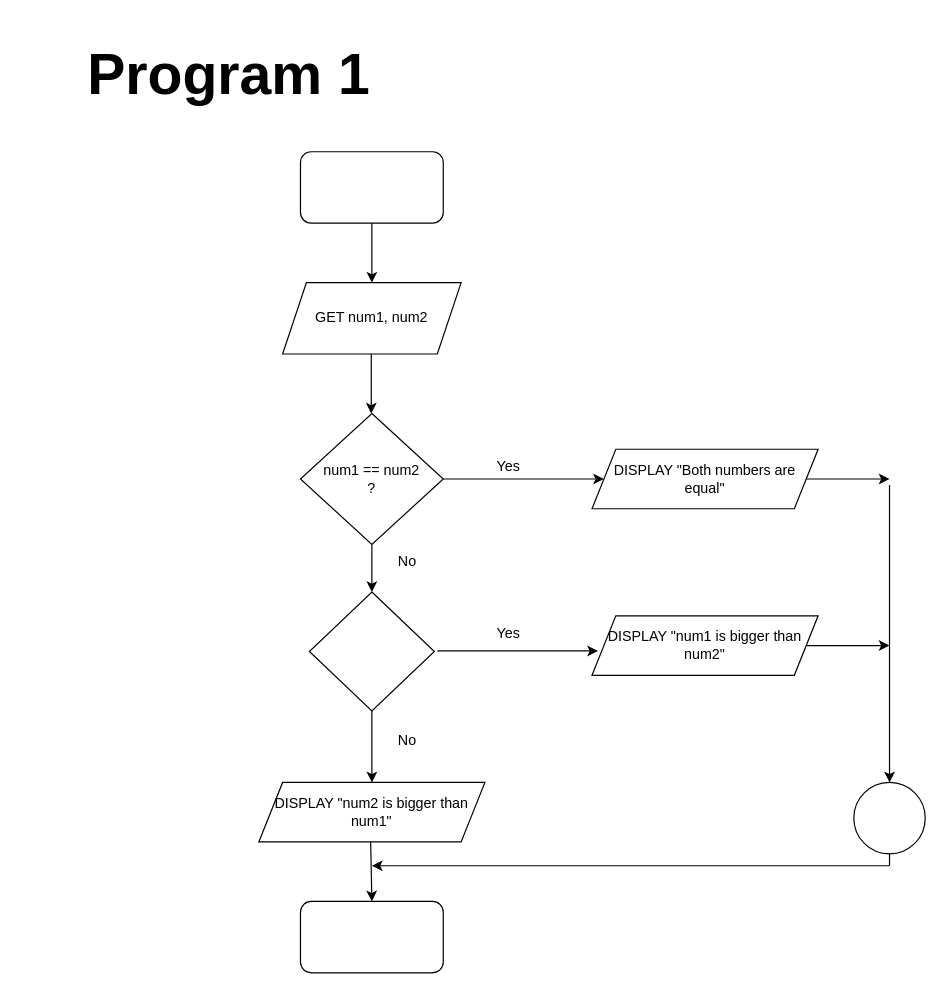
The diagram is 946 pixels wide and 994 high, and some of its shapes have lost their labels. Each missing label, with the centre of its shape:
"END" goes at (x=371, y=936).
"num1 > num2 ?" goes at (x=371, y=651).
"START" goes at (x=371, y=187).
